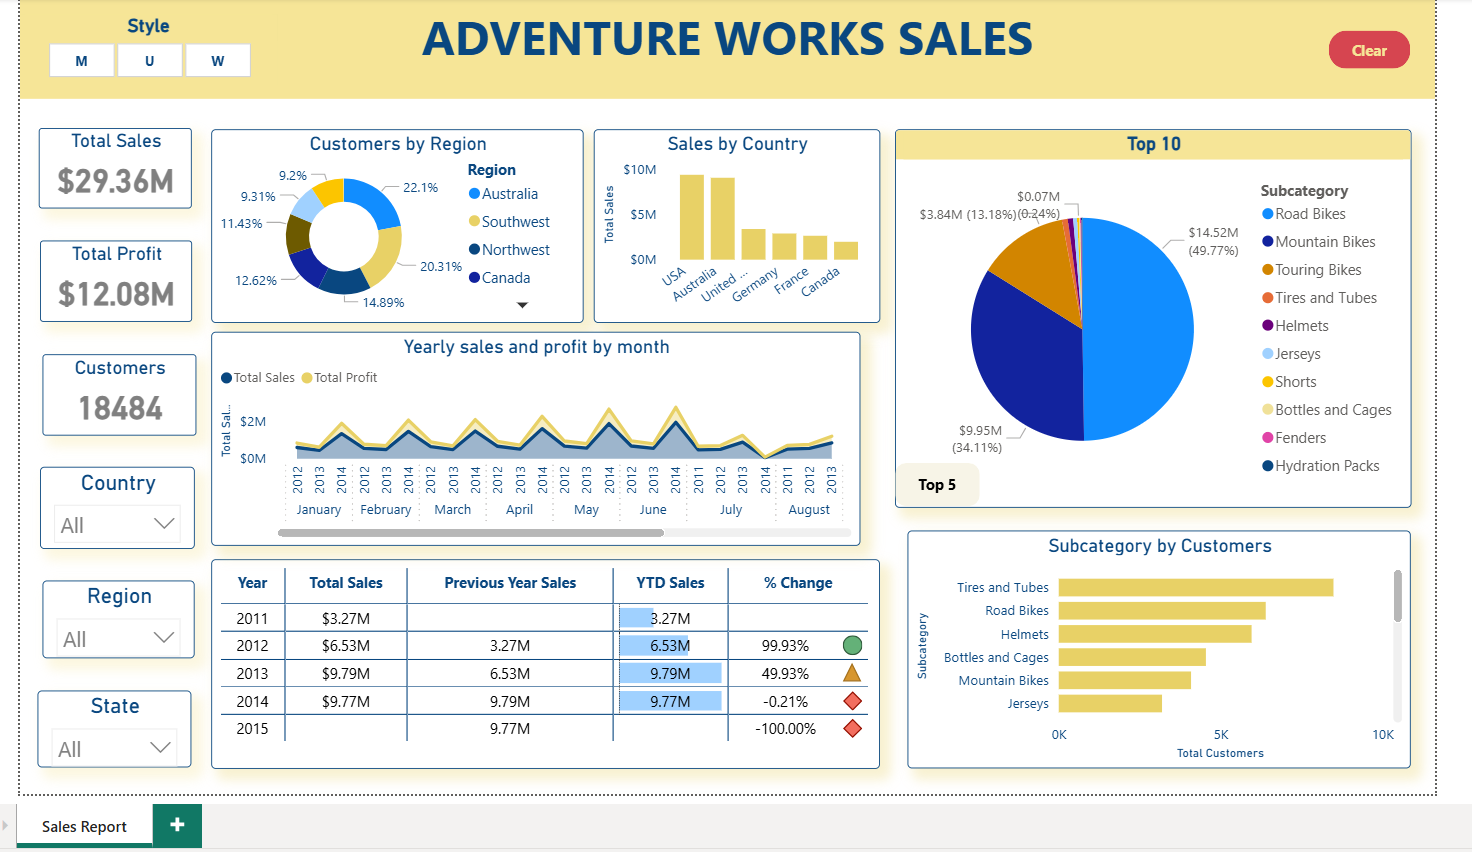

The page's visual inventory and layout, read from the dashboard file:
{"tool":"powerbi","page":{"name":"Sales Report","canvas":[1280,720],"ordinal":0},"visuals":[{"type":"textbox","box":[0,0,1279.9,91.6],"z":0},{"type":"card","title":"Total Sales","fields":{"Values":["_Measures.Total Sales"]},"box":[17.2,118,138.6,72.7],"z":1000},{"type":"card","title":"Total Profit","fields":{"Values":["_Measures.Total Profit"]},"box":[17.9,219.6,137.8,73.2],"z":2000},{"type":"card","title":"Customers","fields":{"Values":["_Measures.Total Customers"]},"box":[19.9,321.7,139,73.2],"z":3000},{"type":"slicer","title":"Country","fields":{"Values":["DimSalesTerritory.Country"]},"box":[17.7,423.9,140.3,74.5],"z":4000},{"type":"slicer","title":"Region","fields":{"Values":["DimSalesTerritory.Region"]},"box":[20,527.2,137.8,70.8],"z":5000},{"type":"slicer","title":"State","fields":{"Values":["DimSalesTerritory.State"]},"box":[16.1,626.9,139,69.5],"z":6000},{"type":"donutChart","title":"Customers by Region","fields":{"Category":["DimSalesTerritory.Region"],"Y":["CountNonNull(FactInternetSale.CustomerKey)"]},"box":[173.5,118.6,336.9,175],"z":9000},{"type":"clusteredColumnChart","title":"Sales by Country","fields":{"Y":["_Measures.Total Sales"],"Category":["DimSalesTerritory.Country"]},"box":[519.1,118.6,258.8,175],"z":10000},{"type":"tableEx","fields":{"Values":["DimDate.Year","_Measures.Total Sales","_Measures.Previous Year Sales","_Measures.YTD Sales","_Measures.% Change"]},"box":[173.5,507.6,604.4,189.4],"z":11000},{"type":"clusteredBarChart","title":"Subcategory by Customers","fields":{"Y":["_Measures.Total Customers"],"Category":["DimProductSubcategory.Subcategory"]},"box":[802.5,481.5,455.5,215.5],"z":12000},{"type":"stackedAreaChart","title":"Yearly sales and profit by month","fields":{"Category":["DimDate.MonthName","DimDate.Year"],"Y":["_Measures.Total Sales","_Measures.Total Profit"]},"box":[173.5,302.2,587.1,193.8],"z":13000},{"type":"pieChart","title":"Top 10","fields":{"Y":["_Measures.Total Sales"],"Category":["DimProductSubcategory.Subcategory"]},"box":[791,118.6,467.1,342.7],"z":15000},{"type":"actionButton","title":"Top ","box":[791,420.8,76.6,39],"z":16000},{"type":"actionButton","box":[1184.3,28.9,73.7,34.7],"z":18000},{"type":"slicer","title":"Style","fields":{"Values":["DimProduct.Style"]},"box":[0,14.5,232.8,63.6],"z":19000}]}

Visuals, with their boxes on the page's 1280x720 design canvas (x1, y1, x2, y2). These are canvas units, not pixel positions in the 1472x852 screenshot, which may show the page scaled, cropped or inside an application window:
textbox: (0, 0, 1280, 92)
"Total Sales" card: (17, 118, 156, 191)
"Total Profit" card: (18, 220, 156, 293)
"Customers" card: (20, 322, 159, 395)
"Country" slicer: (18, 424, 158, 498)
"Region" slicer: (20, 527, 158, 598)
"State" slicer: (16, 627, 155, 696)
"Customers by Region" donutChart: (174, 119, 510, 294)
"Sales by Country" clusteredColumnChart: (519, 119, 778, 294)
tableEx - DimDate.Year x _Measures.Total Sales: (174, 508, 778, 697)
"Subcategory by Customers" clusteredBarChart: (802, 482, 1258, 697)
"Yearly sales and profit by month" stackedAreaChart: (174, 302, 761, 496)
"Top 10" pieChart: (791, 119, 1258, 461)
"Top " actionButton: (791, 421, 868, 460)
actionButton: (1184, 29, 1258, 64)
"Style" slicer: (0, 14, 233, 78)
